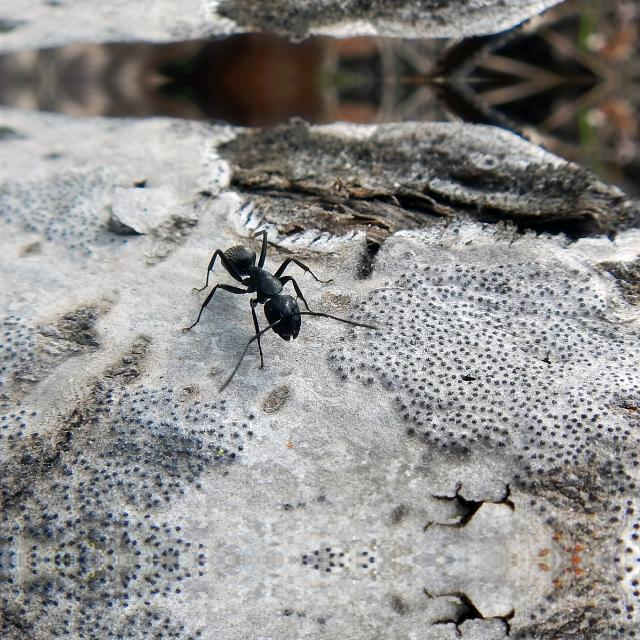Camponotus: (190, 212, 348, 374)
